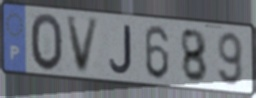6: (144, 22, 171, 83)
8: (179, 27, 209, 84)
9: (216, 30, 245, 88)
J: (108, 23, 133, 75)
O: (29, 11, 65, 73)
V: (65, 16, 102, 76)
